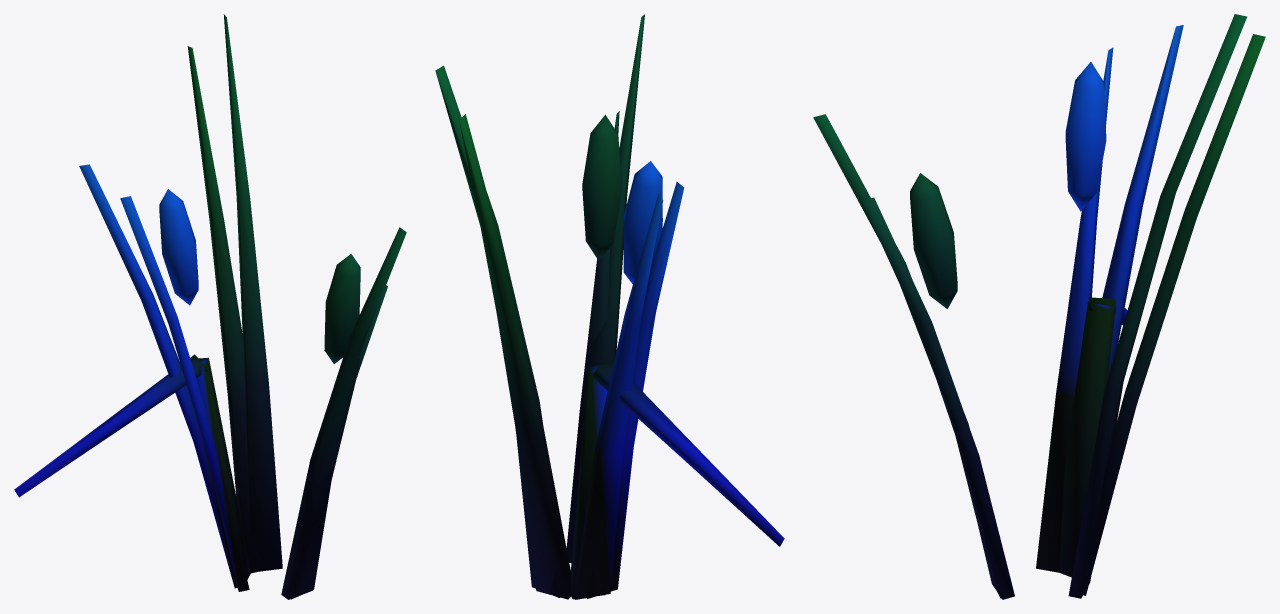
Rendered from SM_Foliage_March_Reeds_A.fbx.
3 renders of one model, left to right at view 1: azimuth 30°, elevation 25°; view 2: azimuth 150°, elevation 25°; view 3: azimuth 270°, elevation 25°, orthographic. The views are drawn at different scales.
Parts seen in each view (by area): view 1: SM_Foliage_March_Reeds_A; view 2: SM_Foliage_March_Reeds_A; view 3: SM_Foliage_March_Reeds_A.
Boxes of the visible parts, bbox=[...] form: SM_Foliage_March_Reeds_A: bbox=[14, 14, 406, 599]; SM_Foliage_March_Reeds_A: bbox=[435, 14, 784, 599]; SM_Foliage_March_Reeds_A: bbox=[813, 14, 1265, 599].
Size of the model in its own units: 0.2736 by 0.4997 by 0.3462.
